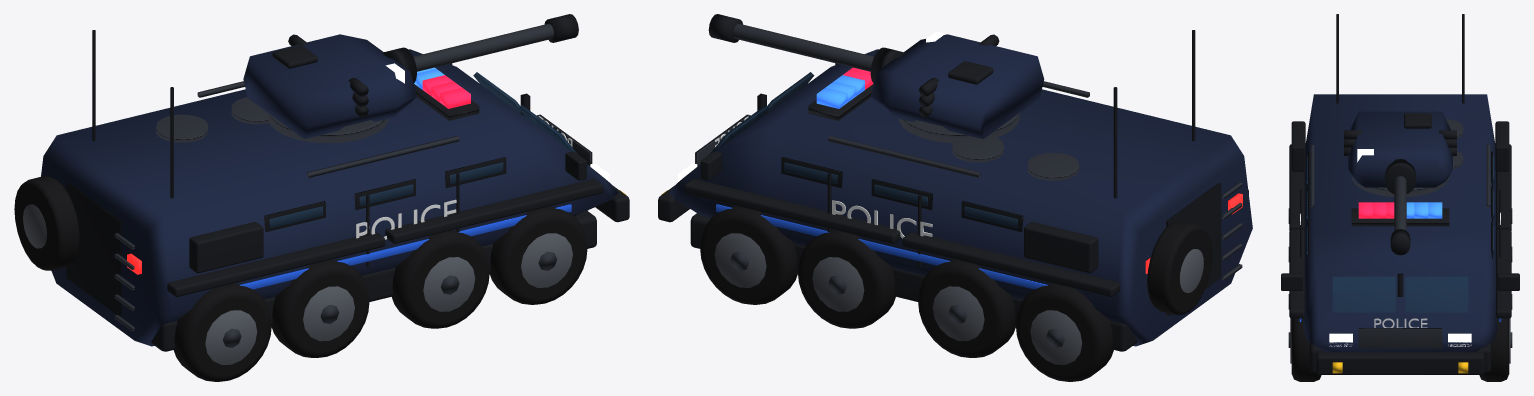
File: armor.glb
3 views of the same model, side by side, from view 1: azimuth 30°, elevation 25°; view 2: azimuth 150°, elevation 25°; view 3: azimuth 270°, elevation 25° (orthographic). The views are drawn at different scales.
Visible parts, largest first — view 1: body, turret, wheel_0, wheel_2, wheel_6, wheel_4; view 2: body, turret, wheel_1, wheel_7, wheel_5, wheel_3; view 3: body, turret, wheel_7, wheel_6.
Boxes of the visible parts, x1,y1,x2,y2 form: body: (14, 30, 629, 351); turret: (243, 14, 578, 143); wheel_0: (173, 283, 271, 381); wheel_2: (271, 259, 369, 357); wheel_6: (489, 206, 587, 304); wheel_4: (392, 230, 489, 328); body: (658, 30, 1252, 351); turret: (708, 14, 1044, 142); wheel_1: (1016, 283, 1113, 381); wheel_7: (700, 206, 797, 304); wheel_5: (798, 230, 895, 328); wheel_3: (918, 259, 1015, 357); body: (1281, 14, 1519, 374); turret: (1344, 111, 1456, 255); wheel_7: (1479, 318, 1512, 381); wheel_6: (1288, 318, 1321, 381).
Size of the model in its own units: 69.1 by 36 by 34.2.
